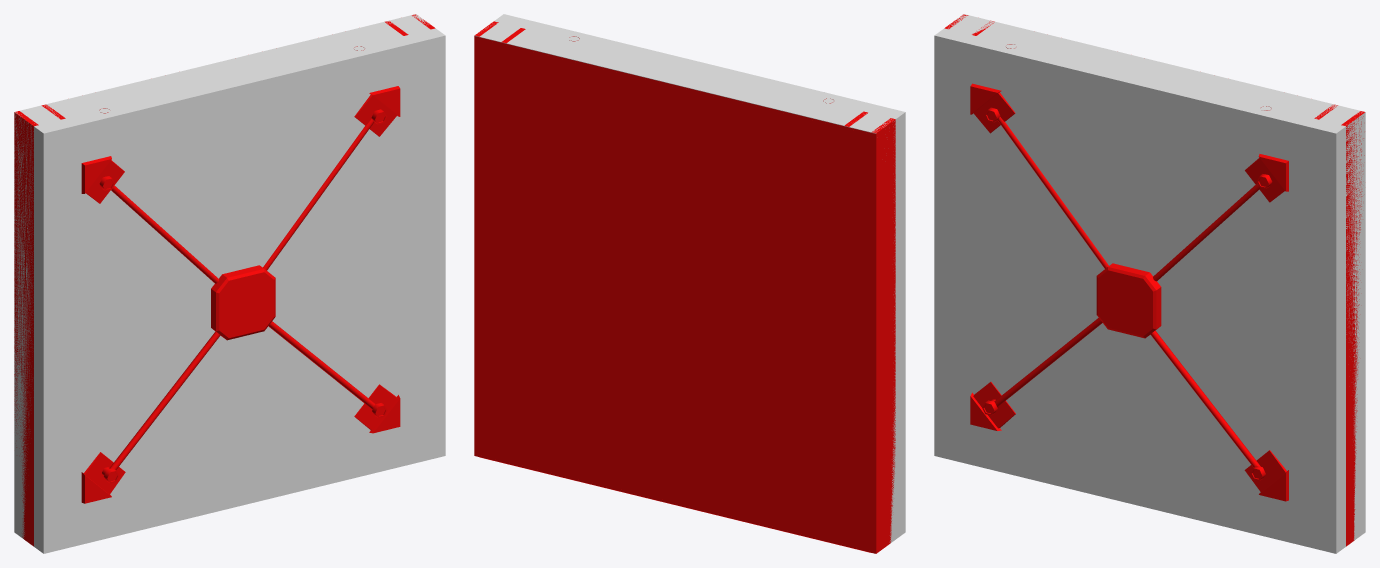
The model's file is SFM_Elevator_wall1.FBX.
3 renders of one model, left to right at view 1: azimuth 30°, elevation 25°; view 2: azimuth 150°, elevation 25°; view 3: azimuth 330°, elevation 25°, orthographic.
Visible parts, largest first — view 1: SFN_Elevator_Wall1_Colider, SFN_Elevator_Wall1_LOD0; view 2: SFN_Elevator_Wall1_LOD0, SFN_Elevator_Wall1_Colider; view 3: SFN_Elevator_Wall1_Colider, SFN_Elevator_Wall1_LOD0.
Part boxes in pixels (left/top/right/bottom): SFN_Elevator_Wall1_Colider: left=14, top=14, right=445, bottom=553; SFN_Elevator_Wall1_LOD0: left=14, top=14, right=435, bottom=546; SFN_Elevator_Wall1_LOD0: left=474, top=21, right=895, bottom=553; SFN_Elevator_Wall1_Colider: left=474, top=14, right=905, bottom=543; SFN_Elevator_Wall1_Colider: left=934, top=14, right=1365, bottom=553; SFN_Elevator_Wall1_LOD0: left=944, top=14, right=1364, bottom=546.
Size of what is drawn, in the model's own units: 200 by 200 by 32.17.
